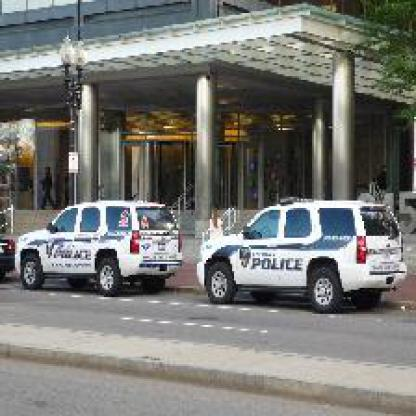emergency: (193, 193, 409, 312), (13, 193, 188, 297)
